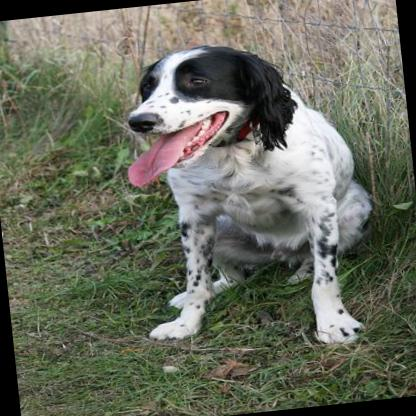English_springer: (117, 26, 382, 369)
